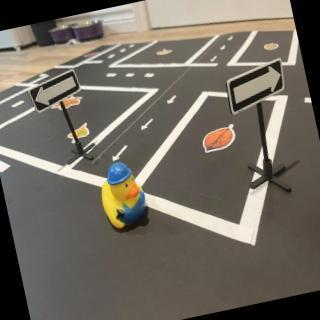duck_specialty: (95, 159, 155, 236)
road_oneway: (110, 142, 134, 165), (140, 117, 160, 134), (165, 93, 180, 109), (316, 195, 320, 237), (208, 53, 222, 64), (218, 42, 230, 53), (227, 34, 239, 42)
sign_oneway_left: (28, 69, 85, 114)
sign_oneway_right: (223, 59, 291, 115)
